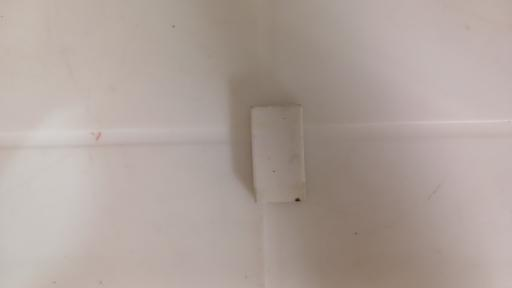Eraser: (251, 106, 305, 205)
